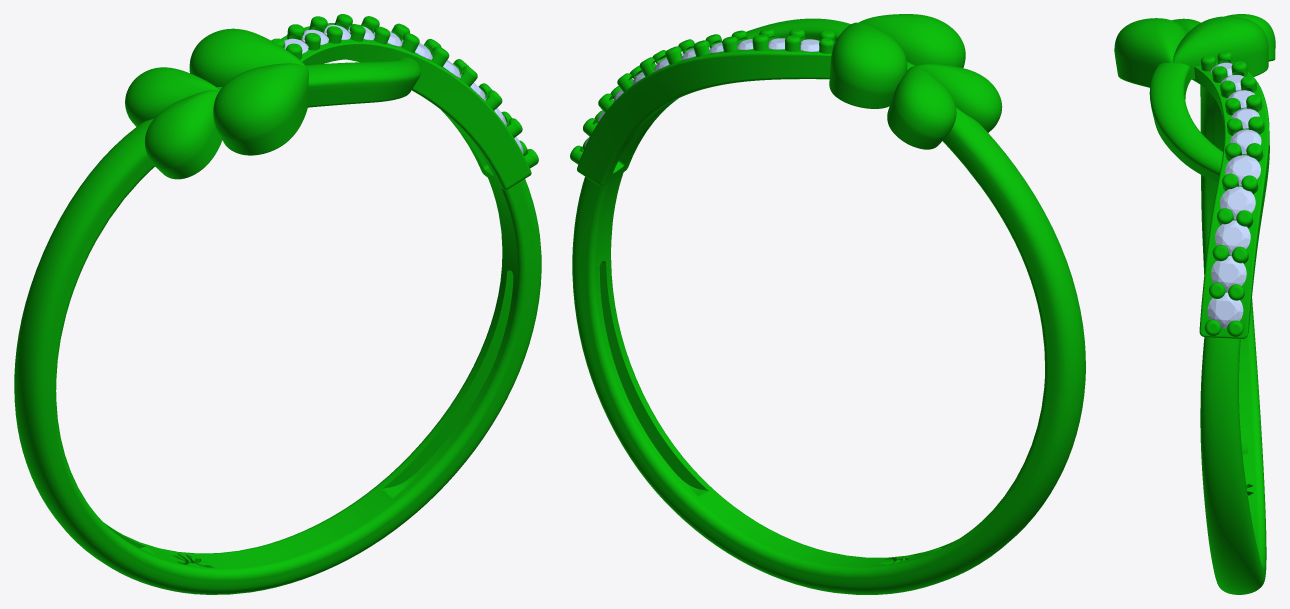
3 renders of one model, left to right at view 1: azimuth 30°, elevation 25°; view 2: azimuth 150°, elevation 25°; view 3: azimuth 270°, elevation 25°, orthographic. The views are drawn at different scales.
Parts seen in each view (by area): view 1: d.3dm; view 2: d.3dm; view 3: d.3dm.
Part boxes in pixels (bbox=[...]): d.3dm: bbox=[14, 14, 541, 594]; d.3dm: bbox=[570, 14, 1085, 594]; d.3dm: bbox=[1114, 14, 1275, 594].
Bounding box in the file's own units: 2.71 × 2.84 × 0.7814.
